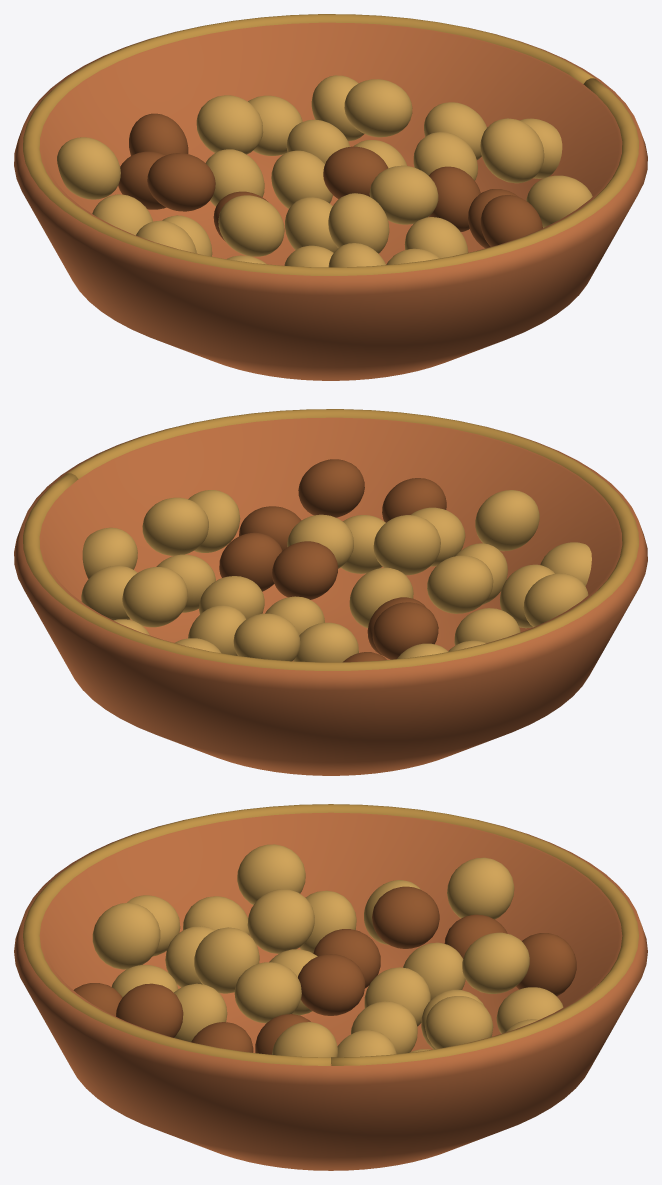
The model's file is leblebi_bowl.glb.
The picture shows the model from 3 angles, top to bottom: view 1: azimuth 30°, elevation 25°; view 2: azimuth 150°, elevation 25°; view 3: azimuth 270°, elevation 25°; orthographic projection.
Parts seen in each view (by area): view 1: CopperBowl, BowlRolledRim, RoastedLeblebi_21, RoastedLeblebi_9, RoastedLeblebi_12, RoastedLeblebi_18, RoastedLeblebi_33, RoastedLeblebi_15, RoastedLeblebi_3, RoastedLeblebi_6, RoastedLeblebi_2, RoastedLeblebi_0 (+22 smaller); view 2: CopperBowl, BowlRolledRim, RoastedLeblebi_6, RoastedLeblebi_18, RoastedLeblebi_21, RoastedLeblebi_27, RoastedLeblebi_24, RoastedLeblebi_9, RoastedLeblebi_0, RoastedLeblebi_12, RoastedLeblebi_15, RoastedLeblebi_8 (+19 smaller); view 3: CopperBowl, BowlRolledRim, RoastedLeblebi_27, RoastedLeblebi_9, RoastedLeblebi_12, RoastedLeblebi_33, RoastedLeblebi_0, RoastedLeblebi_15, RoastedLeblebi_3, RoastedLeblebi_6, RoastedLeblebi_30, RoastedLeblebi_18 (+22 smaller).
Boxes of the visible parts, box(x1,y1,x2,y2) form: CopperBowl: box(14, 22, 647, 380); BowlRolledRim: box(23, 14, 638, 275); RoastedLeblebi_21: box(480, 118, 544, 183); RoastedLeblebi_9: box(218, 195, 284, 256); RoastedLeblebi_12: box(147, 153, 215, 211); RoastedLeblebi_18: box(344, 79, 412, 137); RoastedLeblebi_33: box(57, 137, 120, 199); RoastedLeblebi_15: box(196, 95, 263, 154); RoastedLeblebi_3: box(369, 165, 438, 224); RoastedLeblebi_6: box(328, 193, 389, 253); RoastedLeblebi_2: box(271, 150, 332, 208); RoastedLeblebi_0: box(323, 146, 388, 199); CopperBowl: box(14, 417, 647, 775); BowlRolledRim: box(23, 409, 638, 670); RoastedLeblebi_6: box(373, 515, 440, 575); RoastedLeblebi_18: box(122, 567, 187, 627); RoastedLeblebi_21: box(142, 497, 208, 555); RoastedLeblebi_27: box(475, 490, 539, 551); RoastedLeblebi_24: box(298, 459, 364, 517); RoastedLeblebi_9: box(427, 555, 493, 613); RoastedLeblebi_0: box(272, 541, 338, 599); RoastedLeblebi_12: box(372, 602, 438, 659); RoastedLeblebi_15: box(233, 613, 300, 661); RoastedLeblebi_8: box(219, 532, 282, 591); CopperBowl: box(14, 812, 647, 1170); BowlRolledRim: box(23, 804, 638, 1065); RoastedLeblebi_27: box(92, 903, 160, 969); RoastedLeblebi_9: box(247, 889, 314, 953); RoastedLeblebi_12: box(372, 886, 439, 948); RoastedLeblebi_33: box(447, 857, 514, 919); RoastedLeblebi_0: box(298, 954, 365, 1015); RoastedLeblebi_15: box(462, 932, 529, 993); RoastedLeblebi_3: box(234, 962, 301, 1023); RoastedLeblebi_6: box(194, 927, 259, 993); RoastedLeblebi_30: box(237, 844, 305, 904); RoastedLeblebi_18: box(425, 996, 493, 1048).
Bounding box in the file's own units: 0.11 × 0.0318 × 0.11.
